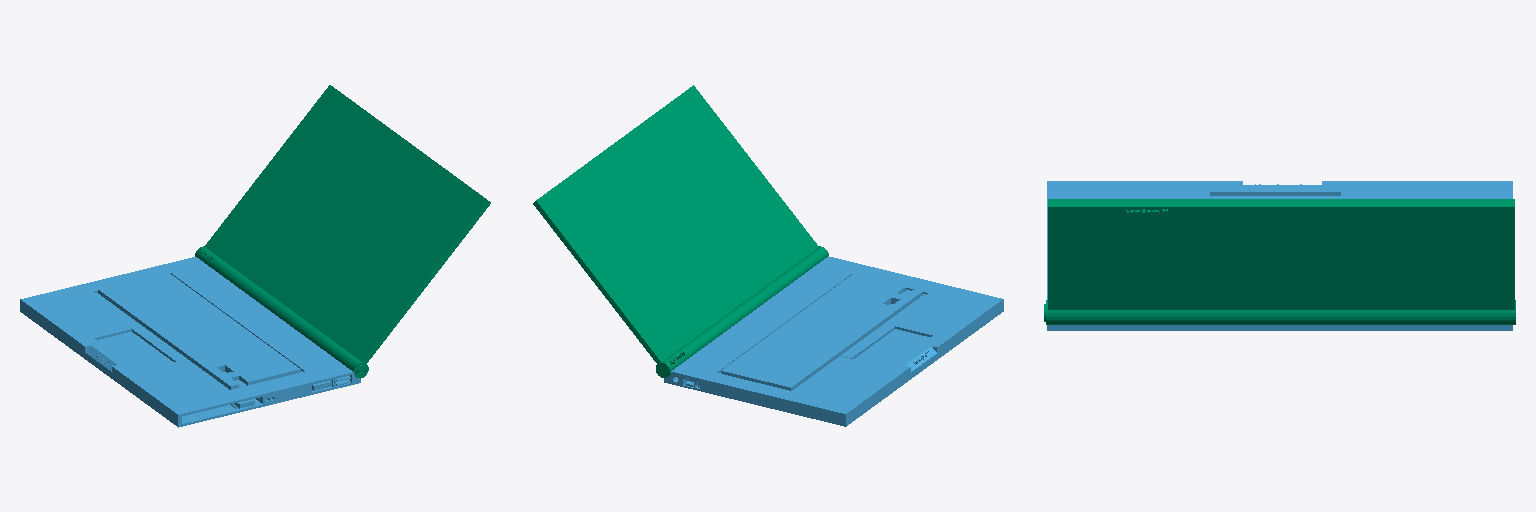
robot.urdf — partnet_241ec8a746dd1cfc78f71a335ebabfa5:
<?xml version="1.0" ?>
<robot name="partnet_241ec8a746dd1cfc78f71a335ebabfa5">
	<link name="base"/>
	<link name="link_0">
		<visual name="keyboard-12">
			<origin xyz="0 0 0"/>
			<geometry>
				<mesh filename="textured_objs/new-0.obj"/>
			</geometry>
		</visual>
		<visual name="touchpad_surface-17">
			<origin xyz="0 0 0"/>
			<geometry>
				<mesh filename="textured_objs/new-1.obj"/>
			</geometry>
		</visual>
		<visual name="button-18">
			<origin xyz="0 0 0"/>
			<geometry>
				<mesh filename="textured_objs/new-3.obj"/>
			</geometry>
		</visual>
		<visual name="button-19">
			<origin xyz="0 0 0"/>
			<geometry>
				<mesh filename="textured_objs/new-2.obj"/>
			</geometry>
		</visual>
		<visual name="base_frame-14">
			<origin xyz="0 0 0"/>
			<geometry>
				<mesh filename="textured_objs/new-4.obj"/>
			</geometry>
		</visual>
		<visual name="other_leaf-16">
			<origin xyz="0 0 0"/>
			<geometry>
				<mesh filename="textured_objs/original-12.obj"/>
			</geometry>
		</visual>
		<visual name="other_leaf-16">
			<origin xyz="0 0 0"/>
			<geometry>
				<mesh filename="textured_objs/original-13.obj"/>
			</geometry>
		</visual>
		<visual name="other_leaf-16">
			<origin xyz="0 0 0"/>
			<geometry>
				<mesh filename="textured_objs/original-14.obj"/>
			</geometry>
		</visual>
		<visual name="other_leaf-16">
			<origin xyz="0 0 0"/>
			<geometry>
				<mesh filename="textured_objs/original-15.obj"/>
			</geometry>
		</visual>
		<visual name="other_leaf-16">
			<origin xyz="0 0 0"/>
			<geometry>
				<mesh filename="textured_objs/original-16.obj"/>
			</geometry>
		</visual>
		<visual name="other_leaf-16">
			<origin xyz="0 0 0"/>
			<geometry>
				<mesh filename="textured_objs/original-17.obj"/>
			</geometry>
		</visual>
		<visual name="other_leaf-16">
			<origin xyz="0 0 0"/>
			<geometry>
				<mesh filename="textured_objs/original-18.obj"/>
			</geometry>
		</visual>
		<visual name="other_leaf-16">
			<origin xyz="0 0 0"/>
			<geometry>
				<mesh filename="textured_objs/original-20.obj"/>
			</geometry>
		</visual>
		<visual name="other_leaf-16">
			<origin xyz="0 0 0"/>
			<geometry>
				<mesh filename="textured_objs/original-19.obj"/>
			</geometry>
		</visual>
		<visual name="other_leaf-16">
			<origin xyz="0 0 0"/>
			<geometry>
				<mesh filename="textured_objs/original-22.obj"/>
			</geometry>
		</visual>
		<visual name="other_leaf-16">
			<origin xyz="0 0 0"/>
			<geometry>
				<mesh filename="textured_objs/original-21.obj"/>
			</geometry>
		</visual>
		<collision>
			<origin xyz="0 0 0"/>
			<geometry>
				<mesh filename="textured_objs/new-0.obj"/>
			</geometry>
		</collision>
		<collision>
			<origin xyz="0 0 0"/>
			<geometry>
				<mesh filename="textured_objs/new-1.obj"/>
			</geometry>
		</collision>
		<collision>
			<origin xyz="0 0 0"/>
			<geometry>
				<mesh filename="textured_objs/new-3.obj"/>
			</geometry>
		</collision>
		<collision>
			<origin xyz="0 0 0"/>
			<geometry>
				<mesh filename="textured_objs/new-2.obj"/>
			</geometry>
		</collision>
		<collision>
			<origin xyz="0 0 0"/>
			<geometry>
				<mesh filename="textured_objs/new-4.obj"/>
			</geometry>
		</collision>
		<collision>
			<origin xyz="0 0 0"/>
			<geometry>
				<mesh filename="textured_objs/original-12.obj"/>
			</geometry>
		</collision>
		<collision>
			<origin xyz="0 0 0"/>
			<geometry>
				<mesh filename="textured_objs/original-13.obj"/>
			</geometry>
		</collision>
		<collision>
			<origin xyz="0 0 0"/>
			<geometry>
				<mesh filename="textured_objs/original-14.obj"/>
			</geometry>
		</collision>
		<collision>
			<origin xyz="0 0 0"/>
			<geometry>
				<mesh filename="textured_objs/original-15.obj"/>
			</geometry>
		</collision>
		<collision>
			<origin xyz="0 0 0"/>
			<geometry>
				<mesh filename="textured_objs/original-16.obj"/>
			</geometry>
		</collision>
		<collision>
			<origin xyz="0 0 0"/>
			<geometry>
				<mesh filename="textured_objs/original-17.obj"/>
			</geometry>
		</collision>
		<collision>
			<origin xyz="0 0 0"/>
			<geometry>
				<mesh filename="textured_objs/original-18.obj"/>
			</geometry>
		</collision>
		<collision>
			<origin xyz="0 0 0"/>
			<geometry>
				<mesh filename="textured_objs/original-20.obj"/>
			</geometry>
		</collision>
		<collision>
			<origin xyz="0 0 0"/>
			<geometry>
				<mesh filename="textured_objs/original-19.obj"/>
			</geometry>
		</collision>
		<collision>
			<origin xyz="0 0 0"/>
			<geometry>
				<mesh filename="textured_objs/original-22.obj"/>
			</geometry>
		</collision>
		<collision>
			<origin xyz="0 0 0"/>
			<geometry>
				<mesh filename="textured_objs/original-21.obj"/>
			</geometry>
		</collision>
	</link>
	<joint name="joint_0" type="fixed">
		<origin rpy="1.570796326794897 0 -1.570796326794897" xyz="0 0 0"/>
		<child link="link_0"/>
		<parent link="base"/>
	</joint>
	<link name="link_1">
		<visual name="shaft-4">
			<origin xyz="0 0.11740507042972474 0.10570131428074087"/>
			<geometry>
				<mesh filename="textured_objs/original-34.obj"/>
			</geometry>
		</visual>
		<visual name="screen-20">
			<origin xyz="0 0.11740507042972474 0.10570131428074087"/>
			<geometry>
				<mesh filename="textured_objs/new-5.obj"/>
			</geometry>
		</visual>
		<visual name="screen_frame-21">
			<origin xyz="0 0.11740507042972474 0.10570131428074087"/>
			<geometry>
				<mesh filename="textured_objs/new-6.obj"/>
			</geometry>
		</visual>
		<visual name="other_leaf-8">
			<origin xyz="0 0.11740507042972474 0.10570131428074087"/>
			<geometry>
				<mesh filename="textured_objs/original-2.obj"/>
			</geometry>
		</visual>
		<visual name="other_leaf-8">
			<origin xyz="0 0.11740507042972474 0.10570131428074087"/>
			<geometry>
				<mesh filename="textured_objs/original-3.obj"/>
			</geometry>
		</visual>
		<visual name="other_leaf-8">
			<origin xyz="0 0.11740507042972474 0.10570131428074087"/>
			<geometry>
				<mesh filename="textured_objs/original-5.obj"/>
			</geometry>
		</visual>
		<visual name="other_leaf-8">
			<origin xyz="0 0.11740507042972474 0.10570131428074087"/>
			<geometry>
				<mesh filename="textured_objs/original-4.obj"/>
			</geometry>
		</visual>
		<visual name="other_leaf-8">
			<origin xyz="0 0.11740507042972474 0.10570131428074087"/>
			<geometry>
				<mesh filename="textured_objs/original-6.obj"/>
			</geometry>
		</visual>
		<visual name="other_leaf-8">
			<origin xyz="0 0.11740507042972474 0.10570131428074087"/>
			<geometry>
				<mesh filename="textured_objs/original-7.obj"/>
			</geometry>
		</visual>
		<visual name="other_leaf-8">
			<origin xyz="0 0.11740507042972474 0.10570131428074087"/>
			<geometry>
				<mesh filename="textured_objs/original-8.obj"/>
			</geometry>
		</visual>
		<visual name="other_leaf-8">
			<origin xyz="0 0.11740507042972474 0.10570131428074087"/>
			<geometry>
				<mesh filename="textured_objs/original-9.obj"/>
			</geometry>
		</visual>
		<visual name="other_leaf-8">
			<origin xyz="0 0.11740507042972474 0.10570131428074087"/>
			<geometry>
				<mesh filename="textured_objs/original-10.obj"/>
			</geometry>
		</visual>
		<visual name="other_leaf-22">
			<origin xyz="0 0.11740507042972474 0.10570131428074087"/>
			<geometry>
				<mesh filename="textured_objs/original-29.obj"/>
			</geometry>
		</visual>
		<visual name="other_leaf-22">
			<origin xyz="0 0.11740507042972474 0.10570131428074087"/>
			<geometry>
				<mesh filename="textured_objs/original-24.obj"/>
			</geometry>
		</visual>
		<visual name="other_leaf-22">
			<origin xyz="0 0.11740507042972474 0.10570131428074087"/>
			<geometry>
				<mesh filename="textured_objs/original-25.obj"/>
			</geometry>
		</visual>
		<visual name="other_leaf-22">
			<origin xyz="0 0.11740507042972474 0.10570131428074087"/>
			<geometry>
				<mesh filename="textured_objs/original-26.obj"/>
			</geometry>
		</visual>
		<visual name="other_leaf-22">
			<origin xyz="0 0.11740507042972474 0.10570131428074087"/>
			<geometry>
				<mesh filename="textured_objs/original-27.obj"/>
			</geometry>
		</visual>
		<visual name="other_leaf-22">
			<origin xyz="0 0.11740507042972474 0.10570131428074087"/>
			<geometry>
				<mesh filename="textured_objs/original-28.obj"/>
			</geometry>
		</visual>
		<visual name="other_leaf-22">
			<origin xyz="0 0.11740507042972474 0.10570131428074087"/>
			<geometry>
				<mesh filename="textured_objs/original-30.obj"/>
			</geometry>
		</visual>
		<visual name="other_leaf-22">
			<origin xyz="0 0.11740507042972474 0.10570131428074087"/>
			<geometry>
				<mesh filename="textured_objs/original-31.obj"/>
			</geometry>
		</visual>
		<visual name="other_leaf-22">
			<origin xyz="0 0.11740507042972474 0.10570131428074087"/>
			<geometry>
				<mesh filename="textured_objs/original-32.obj"/>
			</geometry>
		</visual>
		<collision>
			<origin xyz="0 0.11740507042972474 0.10570131428074087"/>
			<geometry>
				<mesh filename="textured_objs/original-34.obj"/>
			</geometry>
		</collision>
		<collision>
			<origin xyz="0 0.11740507042972474 0.10570131428074087"/>
			<geometry>
				<mesh filename="textured_objs/new-5.obj"/>
			</geometry>
		</collision>
		<collision>
			<origin xyz="0 0.11740507042972474 0.10570131428074087"/>
			<geometry>
				<mesh filename="textured_objs/new-6.obj"/>
			</geometry>
		</collision>
		<collision>
			<origin xyz="0 0.11740507042972474 0.10570131428074087"/>
			<geometry>
				<mesh filename="textured_objs/original-2.obj"/>
			</geometry>
		</collision>
		<collision>
			<origin xyz="0 0.11740507042972474 0.10570131428074087"/>
			<geometry>
				<mesh filename="textured_objs/original-3.obj"/>
			</geometry>
		</collision>
		<collision>
			<origin xyz="0 0.11740507042972474 0.10570131428074087"/>
			<geometry>
				<mesh filename="textured_objs/original-5.obj"/>
			</geometry>
		</collision>
		<collision>
			<origin xyz="0 0.11740507042972474 0.10570131428074087"/>
			<geometry>
				<mesh filename="textured_objs/original-4.obj"/>
			</geometry>
		</collision>
		<collision>
			<origin xyz="0 0.11740507042972474 0.10570131428074087"/>
			<geometry>
				<mesh filename="textured_objs/original-6.obj"/>
			</geometry>
		</collision>
		<collision>
			<origin xyz="0 0.11740507042972474 0.10570131428074087"/>
			<geometry>
				<mesh filename="textured_objs/original-7.obj"/>
			</geometry>
		</collision>
		<collision>
			<origin xyz="0 0.11740507042972474 0.10570131428074087"/>
			<geometry>
				<mesh filename="textured_objs/original-8.obj"/>
			</geometry>
		</collision>
		<collision>
			<origin xyz="0 0.11740507042972474 0.10570131428074087"/>
			<geometry>
				<mesh filename="textured_objs/original-9.obj"/>
			</geometry>
		</collision>
		<collision>
			<origin xyz="0 0.11740507042972474 0.10570131428074087"/>
			<geometry>
				<mesh filename="textured_objs/original-10.obj"/>
			</geometry>
		</collision>
		<collision>
			<origin xyz="0 0.11740507042972474 0.10570131428074087"/>
			<geometry>
				<mesh filename="textured_objs/original-29.obj"/>
			</geometry>
		</collision>
		<collision>
			<origin xyz="0 0.11740507042972474 0.10570131428074087"/>
			<geometry>
				<mesh filename="textured_objs/original-24.obj"/>
			</geometry>
		</collision>
		<collision>
			<origin xyz="0 0.11740507042972474 0.10570131428074087"/>
			<geometry>
				<mesh filename="textured_objs/original-25.obj"/>
			</geometry>
		</collision>
		<collision>
			<origin xyz="0 0.11740507042972474 0.10570131428074087"/>
			<geometry>
				<mesh filename="textured_objs/original-26.obj"/>
			</geometry>
		</collision>
		<collision>
			<origin xyz="0 0.11740507042972474 0.10570131428074087"/>
			<geometry>
				<mesh filename="textured_objs/original-27.obj"/>
			</geometry>
		</collision>
		<collision>
			<origin xyz="0 0.11740507042972474 0.10570131428074087"/>
			<geometry>
				<mesh filename="textured_objs/original-28.obj"/>
			</geometry>
		</collision>
		<collision>
			<origin xyz="0 0.11740507042972474 0.10570131428074087"/>
			<geometry>
				<mesh filename="textured_objs/original-30.obj"/>
			</geometry>
		</collision>
		<collision>
			<origin xyz="0 0.11740507042972474 0.10570131428074087"/>
			<geometry>
				<mesh filename="textured_objs/original-31.obj"/>
			</geometry>
		</collision>
		<collision>
			<origin xyz="0 0.11740507042972474 0.10570131428074087"/>
			<geometry>
				<mesh filename="textured_objs/original-32.obj"/>
			</geometry>
		</collision>
	</link>
	<joint name="joint_1" type="revolute">
		<origin xyz="0 -0.11740507042972474 -0.10570131428074087"/>
		<axis xyz="-1 0 0"/>
		<child link="link_1"/>
		<parent link="link_0"/>
		<limit lower="-2.3387411976724017" upper="0.7539822368615502"/>
	</joint>
</robot>

--- Facts derived from the render (not from the file) ---
Views: 3 orthographic renders of the robot side by side, from view 1: azimuth 30°, elevation 25°; view 2: azimuth 150°, elevation 25°; view 3: azimuth 270°, elevation 25°.
Model partnet_241ec8a746dd1cfc78f71a335ebabfa5 with 3 links and 2 joints (1 revolute, 1 fixed), rooted at base, posed every joint at zero.
Links seen in each view (by area): view 1: link_1, link_0; view 2: link_1, link_0; view 3: link_1, link_0.
Link boxes in pixels (box(x1,y1,x2,y2)): link_1: box(195, 85, 490, 378); link_0: box(20, 257, 360, 427); link_1: box(533, 85, 828, 377); link_0: box(664, 256, 1003, 426); link_1: box(1044, 199, 1515, 324); link_0: box(1047, 181, 1512, 330).
Bounding box of the posed robot: 1.44 × 1.27 × 0.6651 m (x, y, z).
Meshes: 37 distinct files referenced, 37 mesh visuals loaded (37 OBJ).
